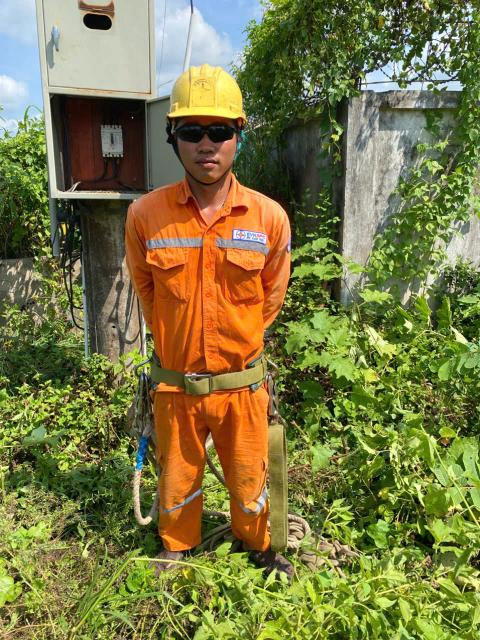harness: (127, 348, 287, 415)
helmet: (150, 54, 260, 132)
shoes: (247, 531, 305, 590), (122, 540, 196, 580)
